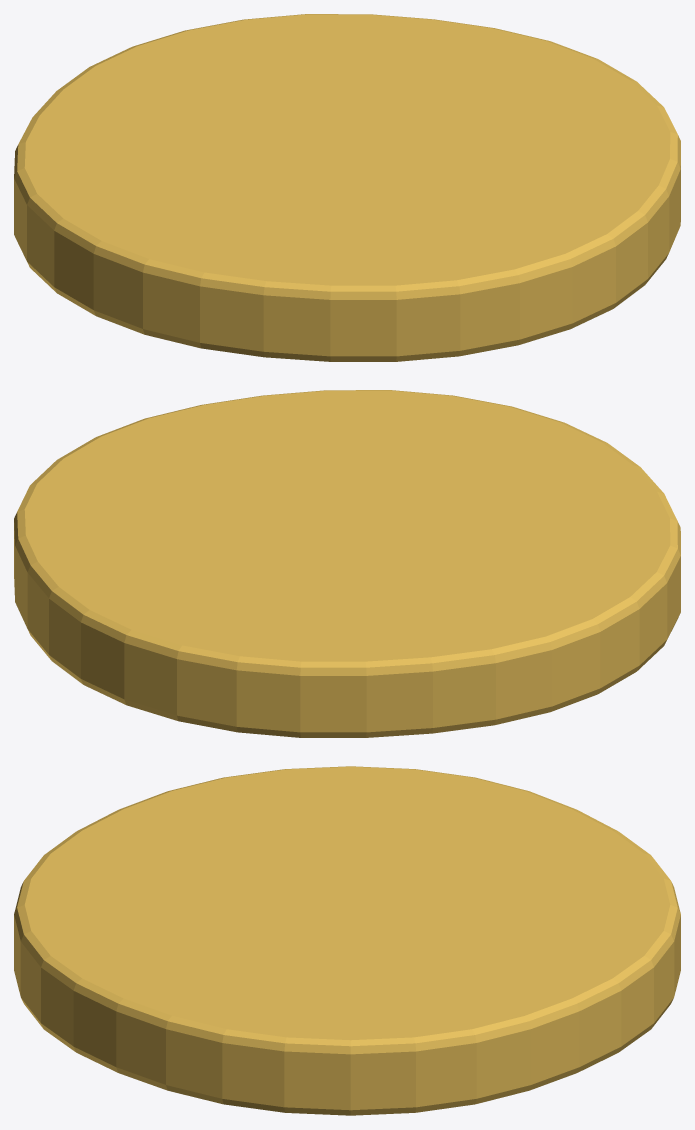
Rendered from bottom_bun-transformed.glb.
3 renders of one model, top to bottom at view 1: azimuth 30°, elevation 25°; view 2: azimuth 150°, elevation 25°; view 3: azimuth 270°, elevation 25°, orthographic.
Parts seen in each view (by area): view 1: bottom_bun; view 2: bottom_bun; view 3: bottom_bun.
Part boxes in pixels (bbox=[...]): bottom_bun: bbox=[14, 14, 680, 361]; bottom_bun: bbox=[14, 390, 680, 737]; bottom_bun: bbox=[14, 766, 680, 1115].
Bounding box in the file's own units: 1.89 × 0.2339 × 1.88.
